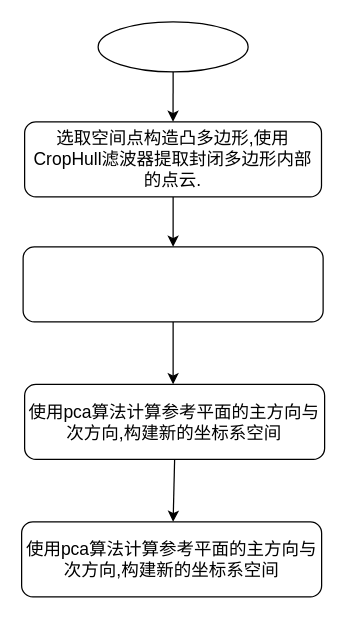
The diagram is 348 pixels wide and 619 high, and some of its shapes have lost their labels. Here are the shapes that lost their labels. From the top down, the centre of each, then its label:
pixel 172 46: 开始
pixel 172 284: 使用基于区域生长分割算法对提取的点云进行分割,并选取参考平面
